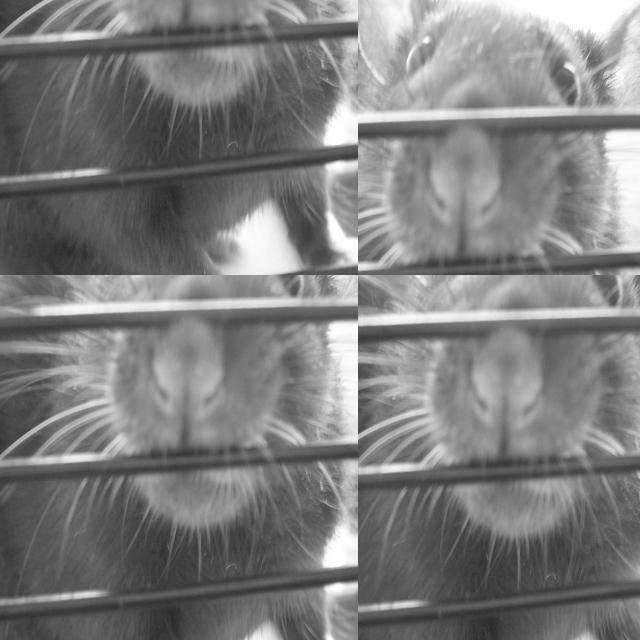rat: (358, 275, 640, 640)
